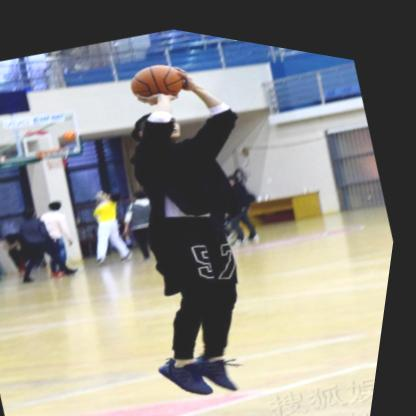basketball: (126, 47, 192, 104)
